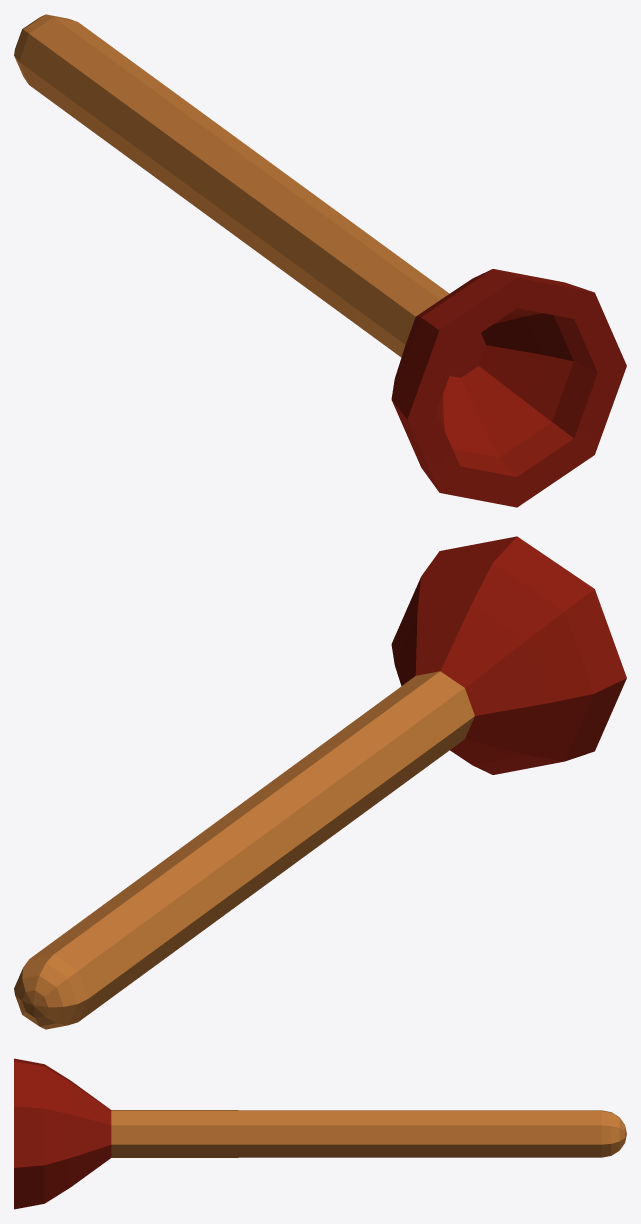
File: Plunger.dae
The picture shows the model from 3 angles, top to bottom: view 1: azimuth 30°, elevation 25°; view 2: azimuth 150°, elevation 25°; view 3: azimuth 270°, elevation 25°; orthographic projection. The views are drawn at different scales.
Parts seen in each view (by area): view 1: Plunger; view 2: Plunger; view 3: Plunger.
Boxes of the visible parts, <box> form: Plunger: <box>14,14,626,507</box>; Plunger: <box>14,536,626,1029</box>; Plunger: <box>14,1058,626,1209</box>.
Bounding box in the file's own units: 1.57 × 6 × 1.57.
